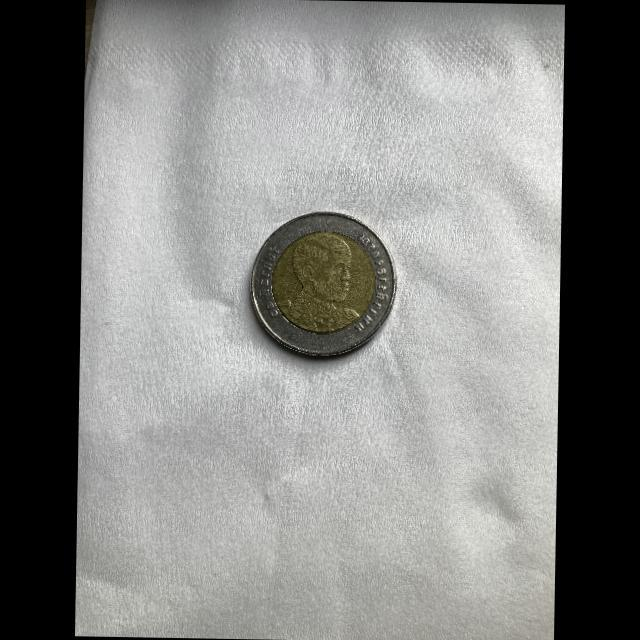10 Bath: (251, 209, 401, 360)
